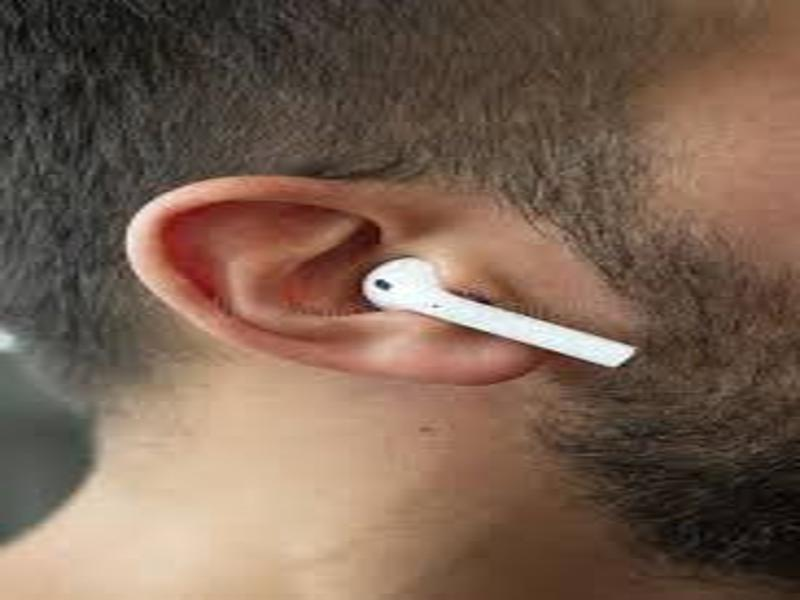headphone: (359, 255, 639, 369)
